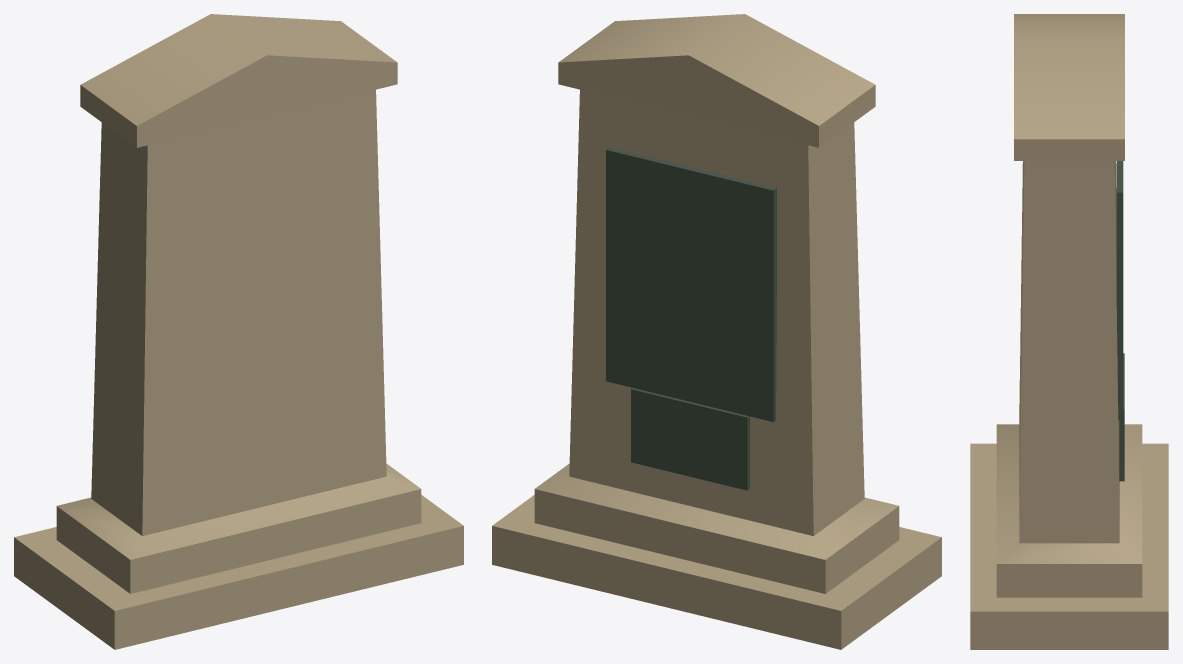
Rendered from mon_stele.glb.
3 views of the same model, side by side, from view 1: azimuth 30°, elevation 25°; view 2: azimuth 150°, elevation 25°; view 3: azimuth 270°, elevation 25° (orthographic).
Parts seen in each view (by area): view 1: mon_stele; view 2: mon_stele; view 3: mon_stele.
Boxes of the visible parts, x1,y1,x2,y2 form: mon_stele: [14, 14, 463, 649]; mon_stele: [492, 14, 941, 649]; mon_stele: [970, 14, 1168, 649].
Size of the model in its own units: 1.5 by 2.2 by 0.75.
